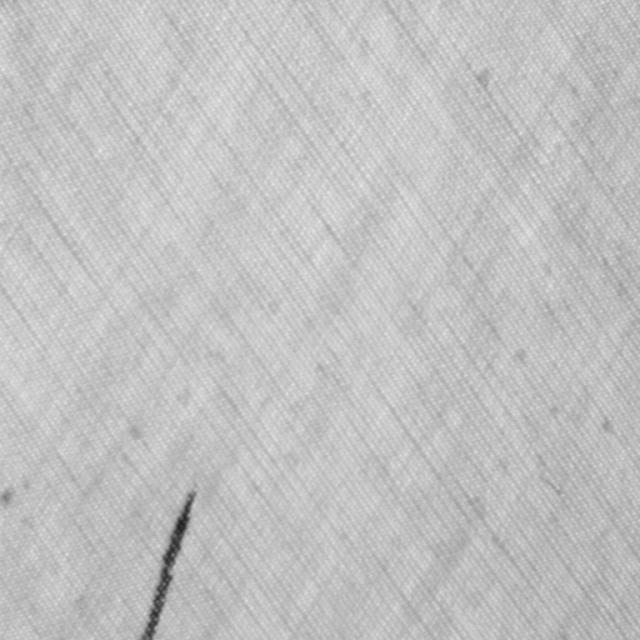oil spot: (142, 480, 199, 639)
